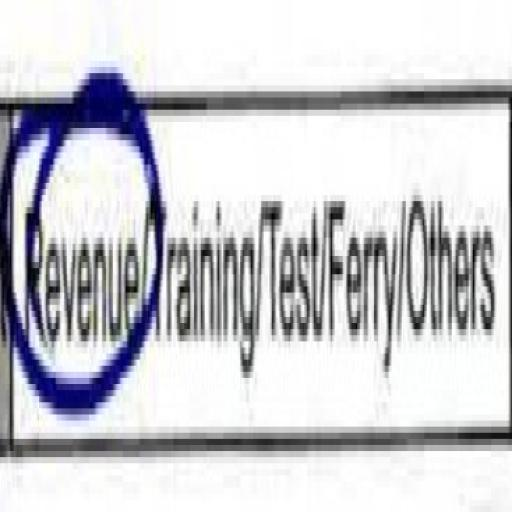check: (0, 4, 146, 512)
